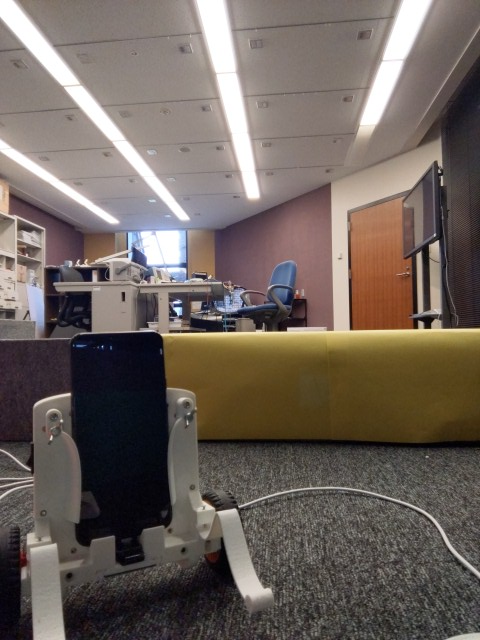f: (1, 325, 275, 640)
